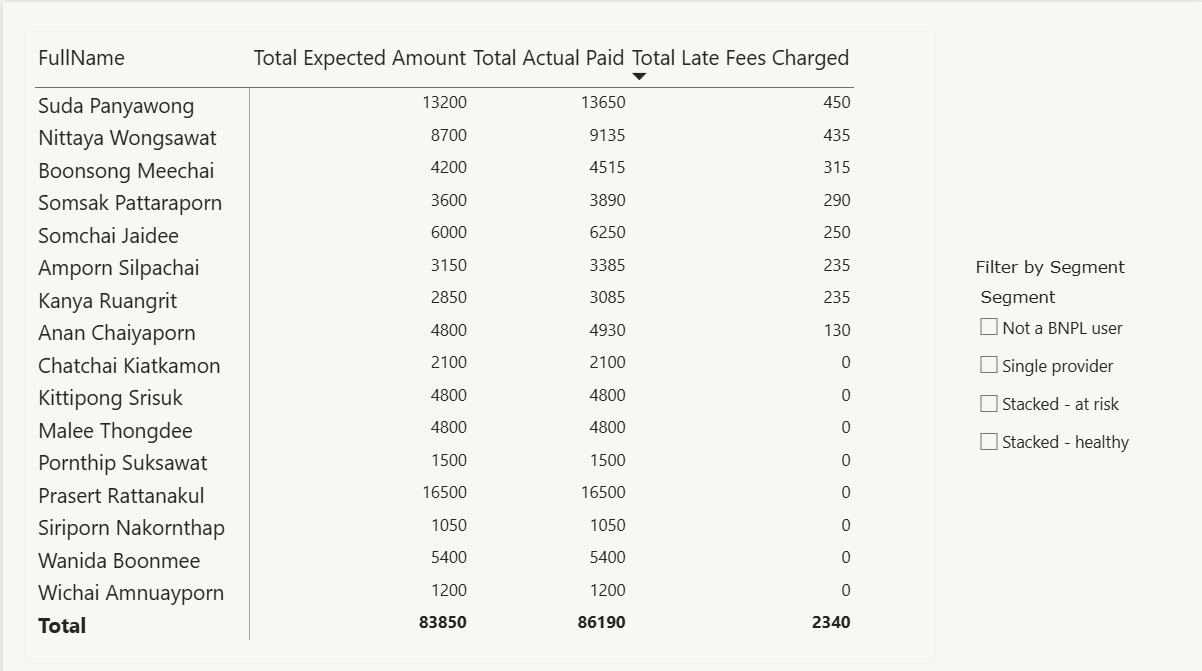

Layout of this report page (visuals, bound fields, positions):
{"tool":"powerbi","page":{"name":"Customer Segment Drilldown","canvas":[1920,1080],"ordinal":2},"visuals":[{"type":"slicer","title":"Filter by Segment","fields":{"Values":["dim_customer.Segment"]},"box":[1556,406,306,328],"z":0},{"type":"pivotTable","title":"   Customer Exposure by Segment","fields":{"Rows":["dim_customer.FullName"],"Values":["fact_obligation.Total Expected Amount","fact_obligation.Total Actual Paid","fact_obligation.Total Late Fees Charged"]},"box":[34,46,1458,1012],"z":1000}]}

Visuals, with their boxes in screenshot pixels (x1, y1, x2, y2), scaled from the page's 1920x1080 canvas onto the 1202x671 screenshot:
"Filter by Segment" slicer: 974,252,1166,456
"   Customer Exposure by Segment" pivotTable: 21,29,934,657
